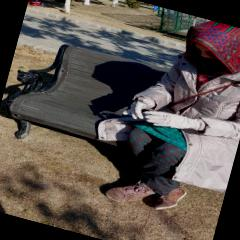gloved: (140, 106, 196, 134), (123, 93, 153, 121)
